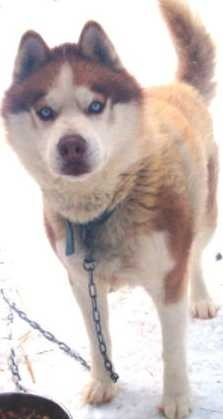dog: (0, 16, 223, 366)
